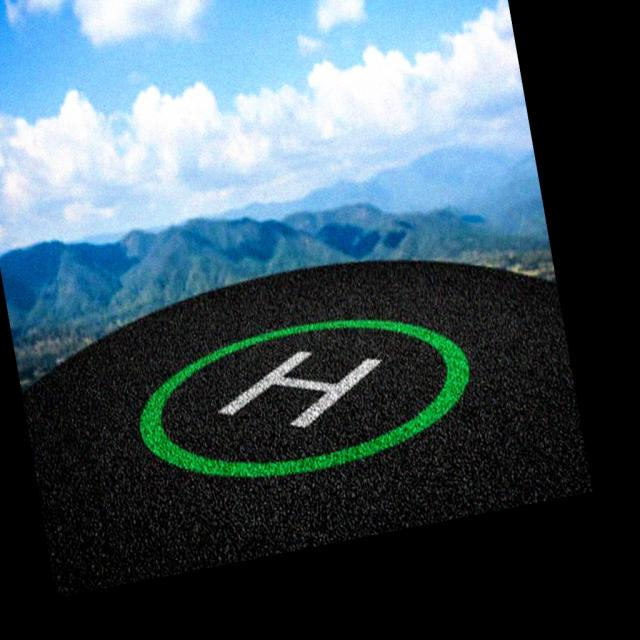helipad: (134, 314, 474, 480)
